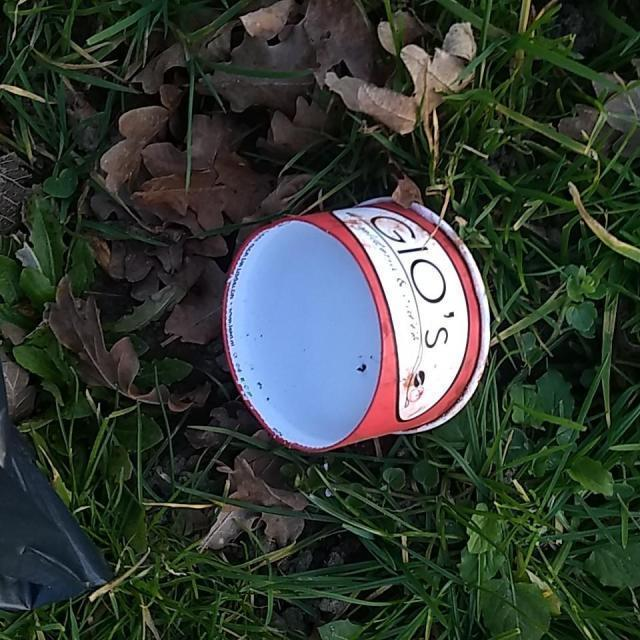Paper: (217, 194, 493, 459)
